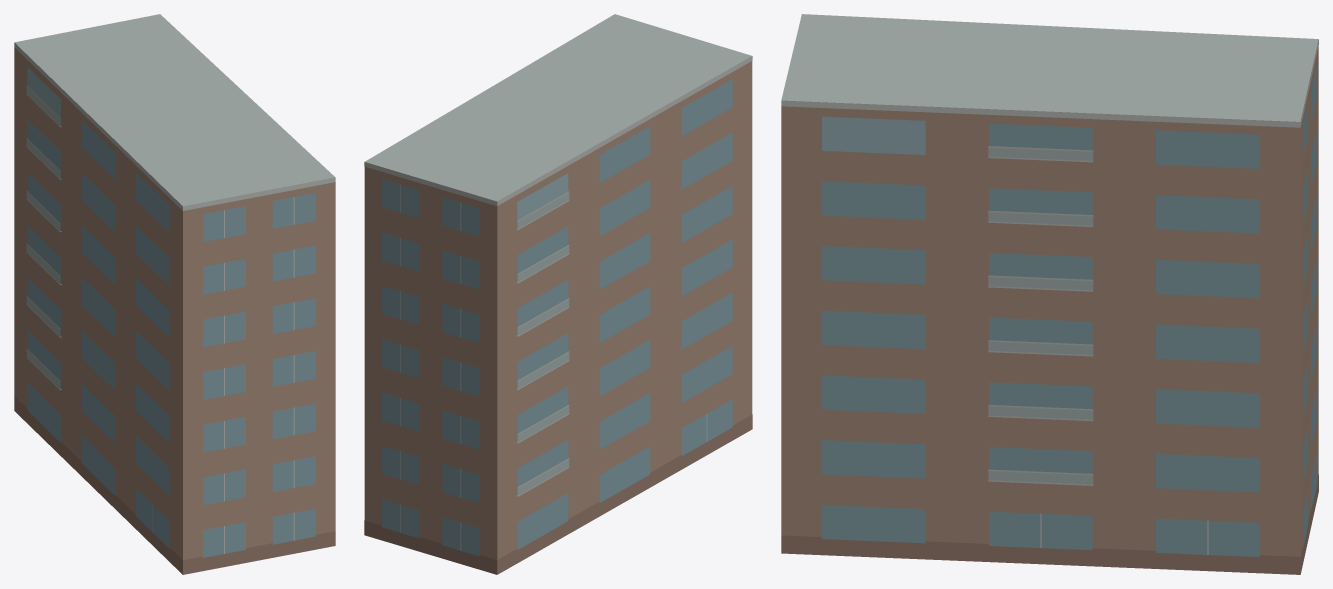
Rendered from survey-upis-32986217.glb.
3 views of the same model, side by side, from view 1: azimuth 30°, elevation 25°; view 2: azimuth 150°, elevation 25°; view 3: azimuth 270°, elevation 25° (orthographic). The views are drawn at different scales.
Visible parts, largest first — view 1: survey-upis-32986217.tmp; view 2: survey-upis-32986217.tmp; view 3: survey-upis-32986217.tmp.
Part boxes in pixels (left/top/right/bottom): survey-upis-32986217.tmp: left=14, top=14, right=335, bottom=574; survey-upis-32986217.tmp: left=364, top=14, right=752, bottom=574; survey-upis-32986217.tmp: left=781, top=14, right=1318, bottom=574.
Bounding box in the file's own units: 9.83 × 19.2 × 20.66.
